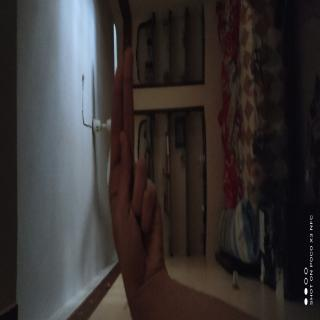AYN: (0, 232, 126, 320)
